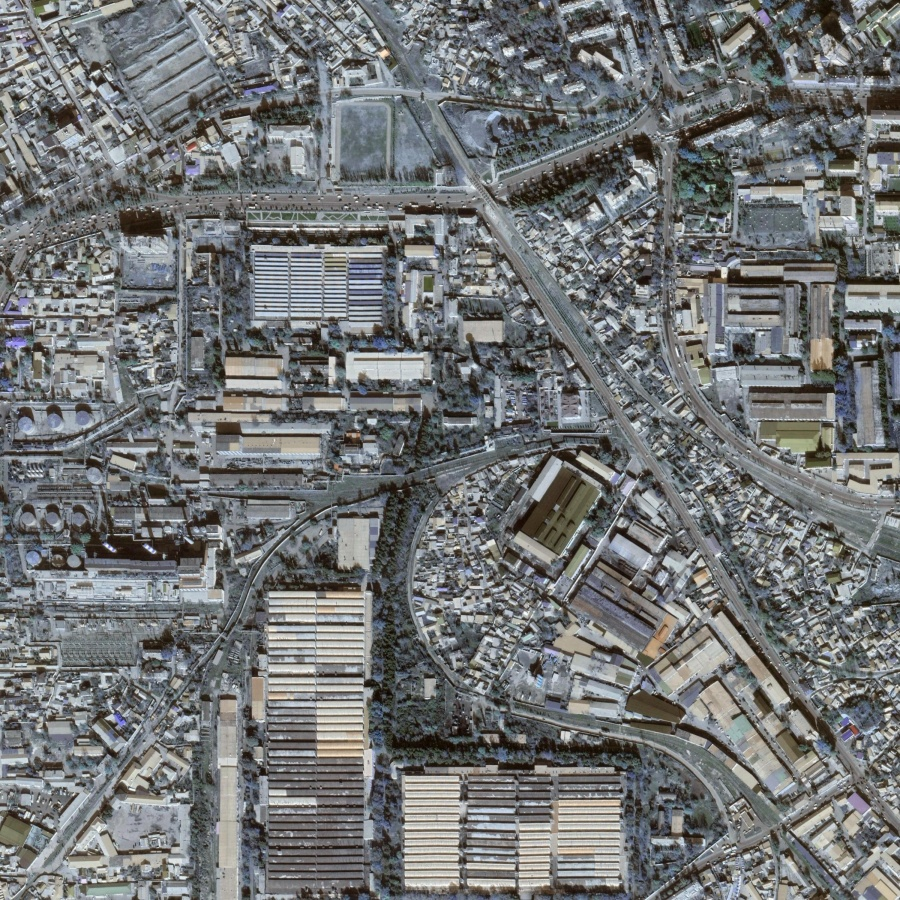PowerPlant: (8, 457, 229, 668)
